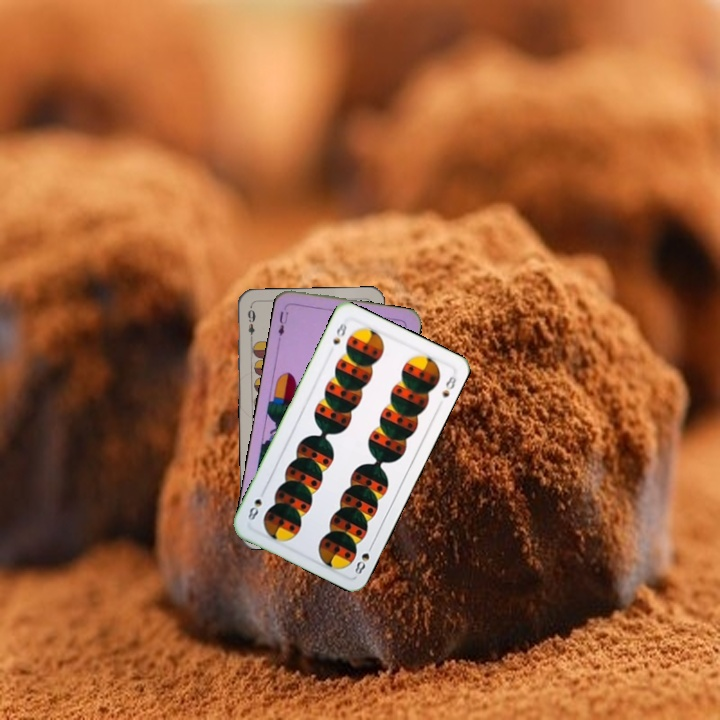E9: (243, 304, 258, 344)
EU: (274, 302, 291, 338)
S8: (351, 539, 376, 577), (329, 318, 350, 347)
